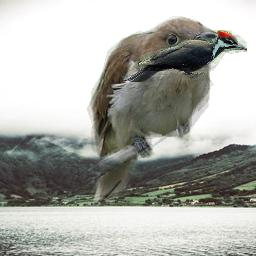Cuckoo: (87, 16, 220, 206)
Woodpecker: (123, 30, 247, 82)
